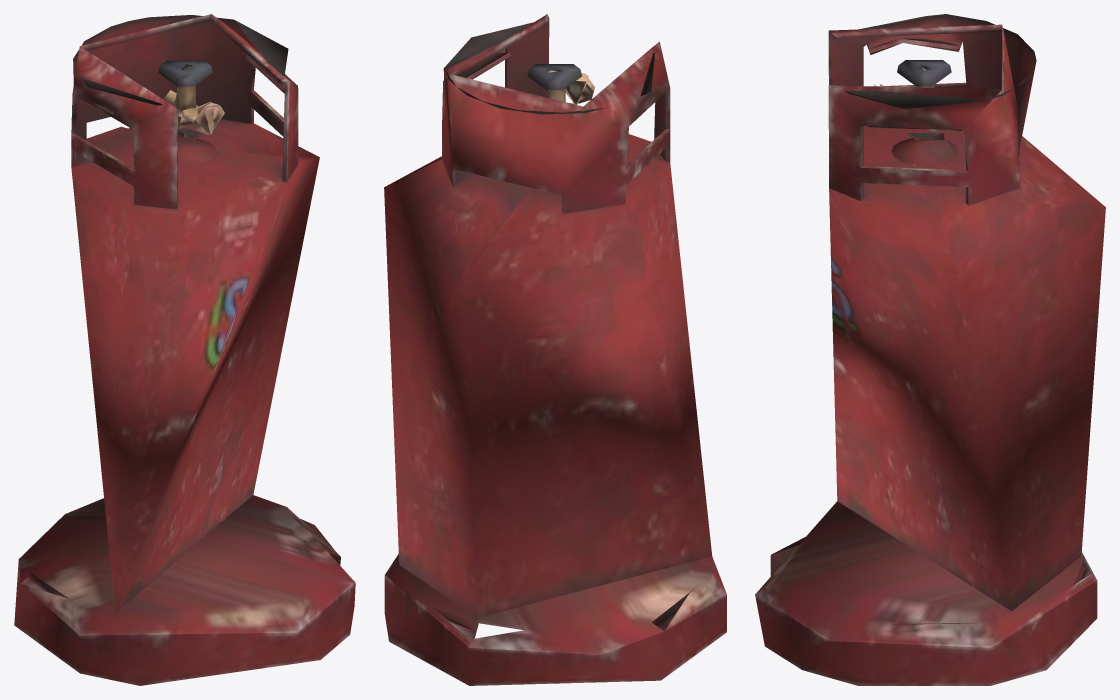
Rendered from propane.glb.
The picture shows the model from 3 angles, left to right: view 1: azimuth 30°, elevation 25°; view 2: azimuth 150°, elevation 25°; view 3: azimuth 270°, elevation 25°; orthographic projection.
Parts seen in each view (by area): view 1: propane_tank; view 2: propane_tank; view 3: propane_tank.
Part boxes in pixels (box(x1,y1,x2,y2)): propane_tank: box(14, 14, 355, 685); propane_tank: box(384, 14, 726, 685); propane_tank: box(755, 14, 1105, 685).
Size of the model in its own units: 0.305 by 0.5534 by 0.3135.
Materials: 1 (1 with a texture image).
